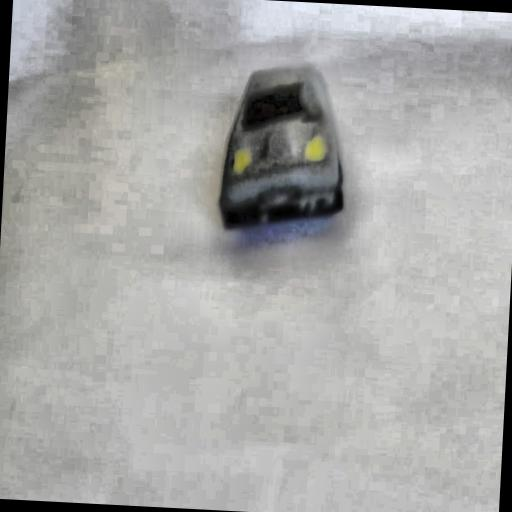normal_car: (216, 58, 354, 236)
